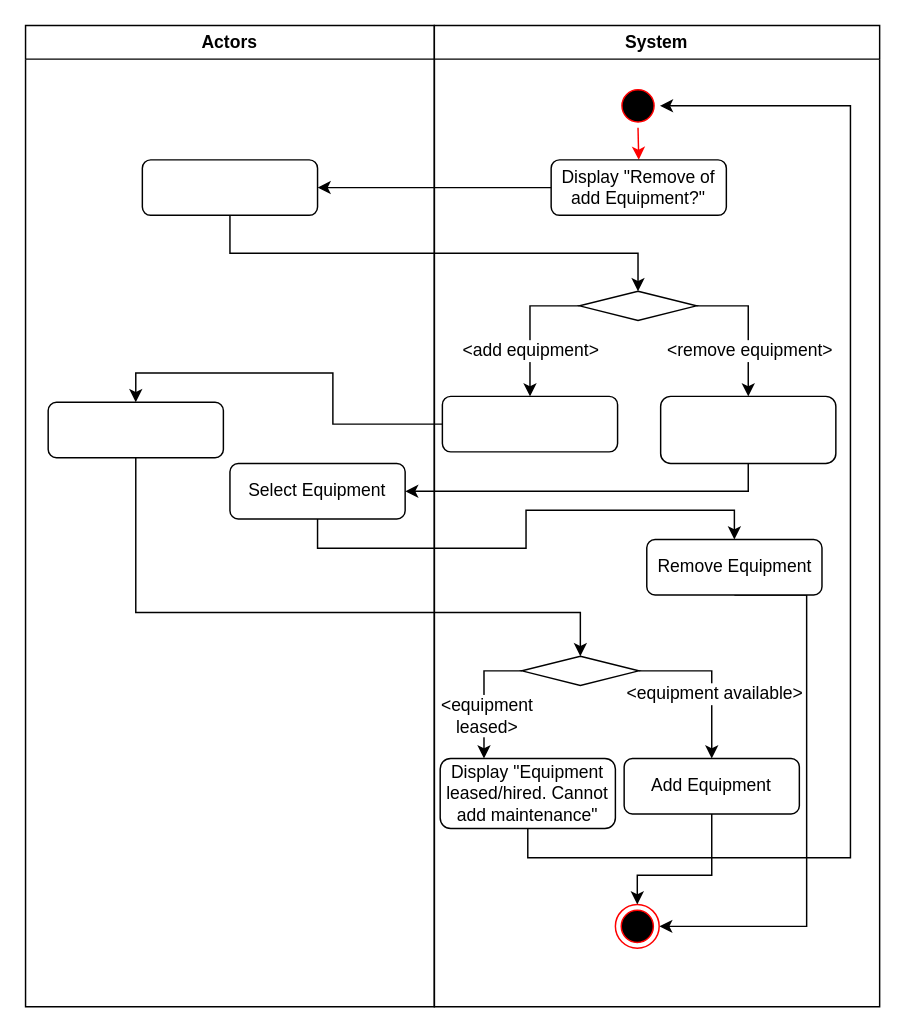
Some shapes in this 905 by 1032 pixel diagram are drawn without their labels. Each missing label, with the centre of its shape:
Choose add or remove: (229,186)
Display "Enter Equipment details": (529,423)
Display "select equipment to remove": (747,429)
Enter Equipment Details: (135,429)
